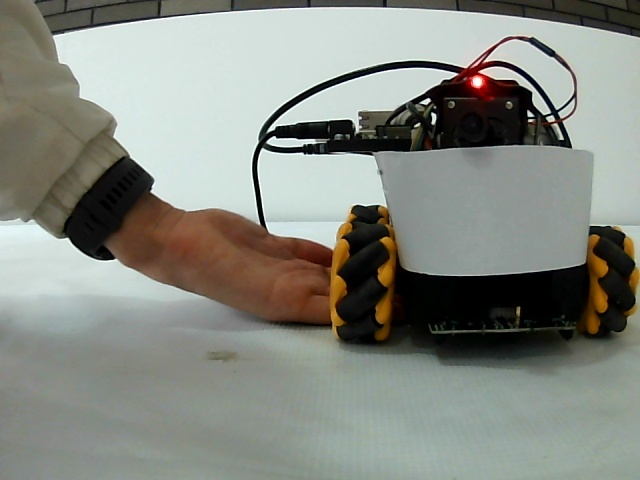car: (336, 73, 636, 340)
paper: (388, 152, 586, 267)
